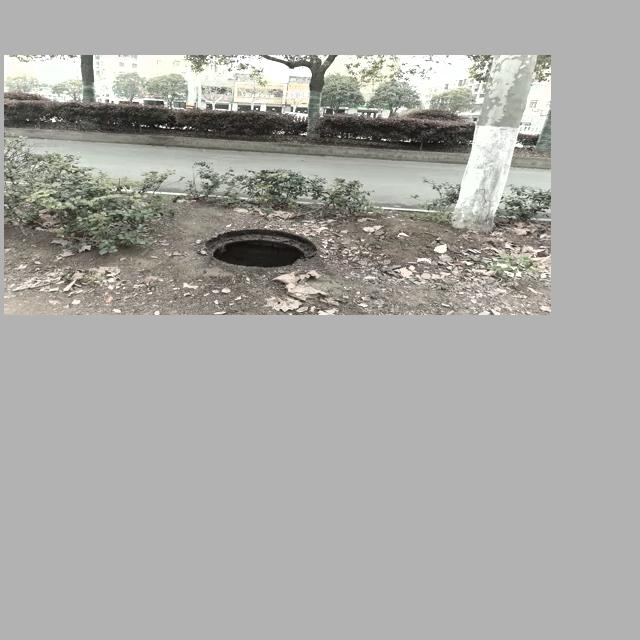lose: (205, 228, 321, 269)
